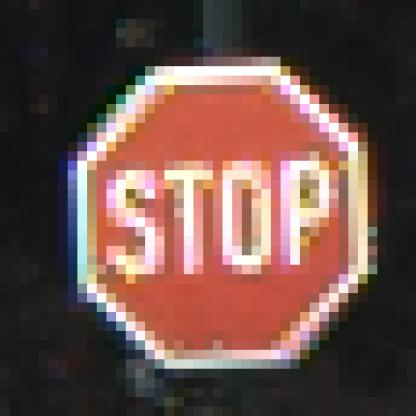stop: (44, 46, 383, 368)
